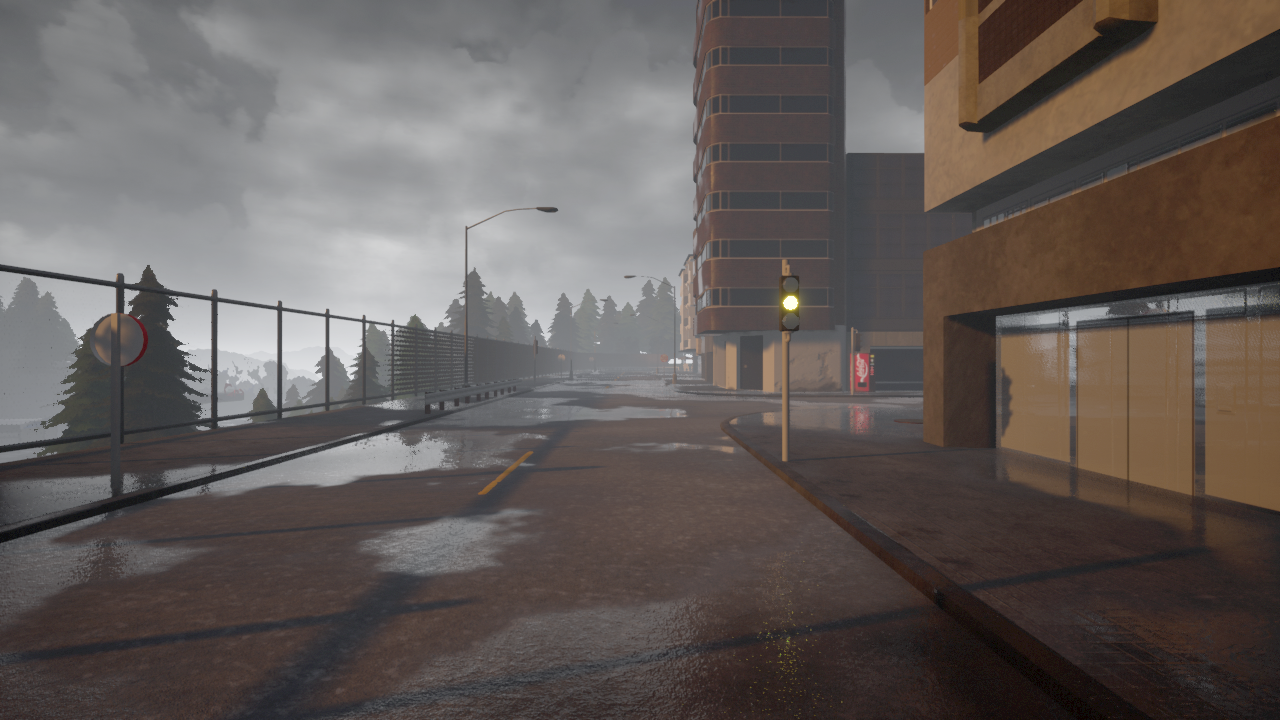yellow: (779, 273, 802, 333)
